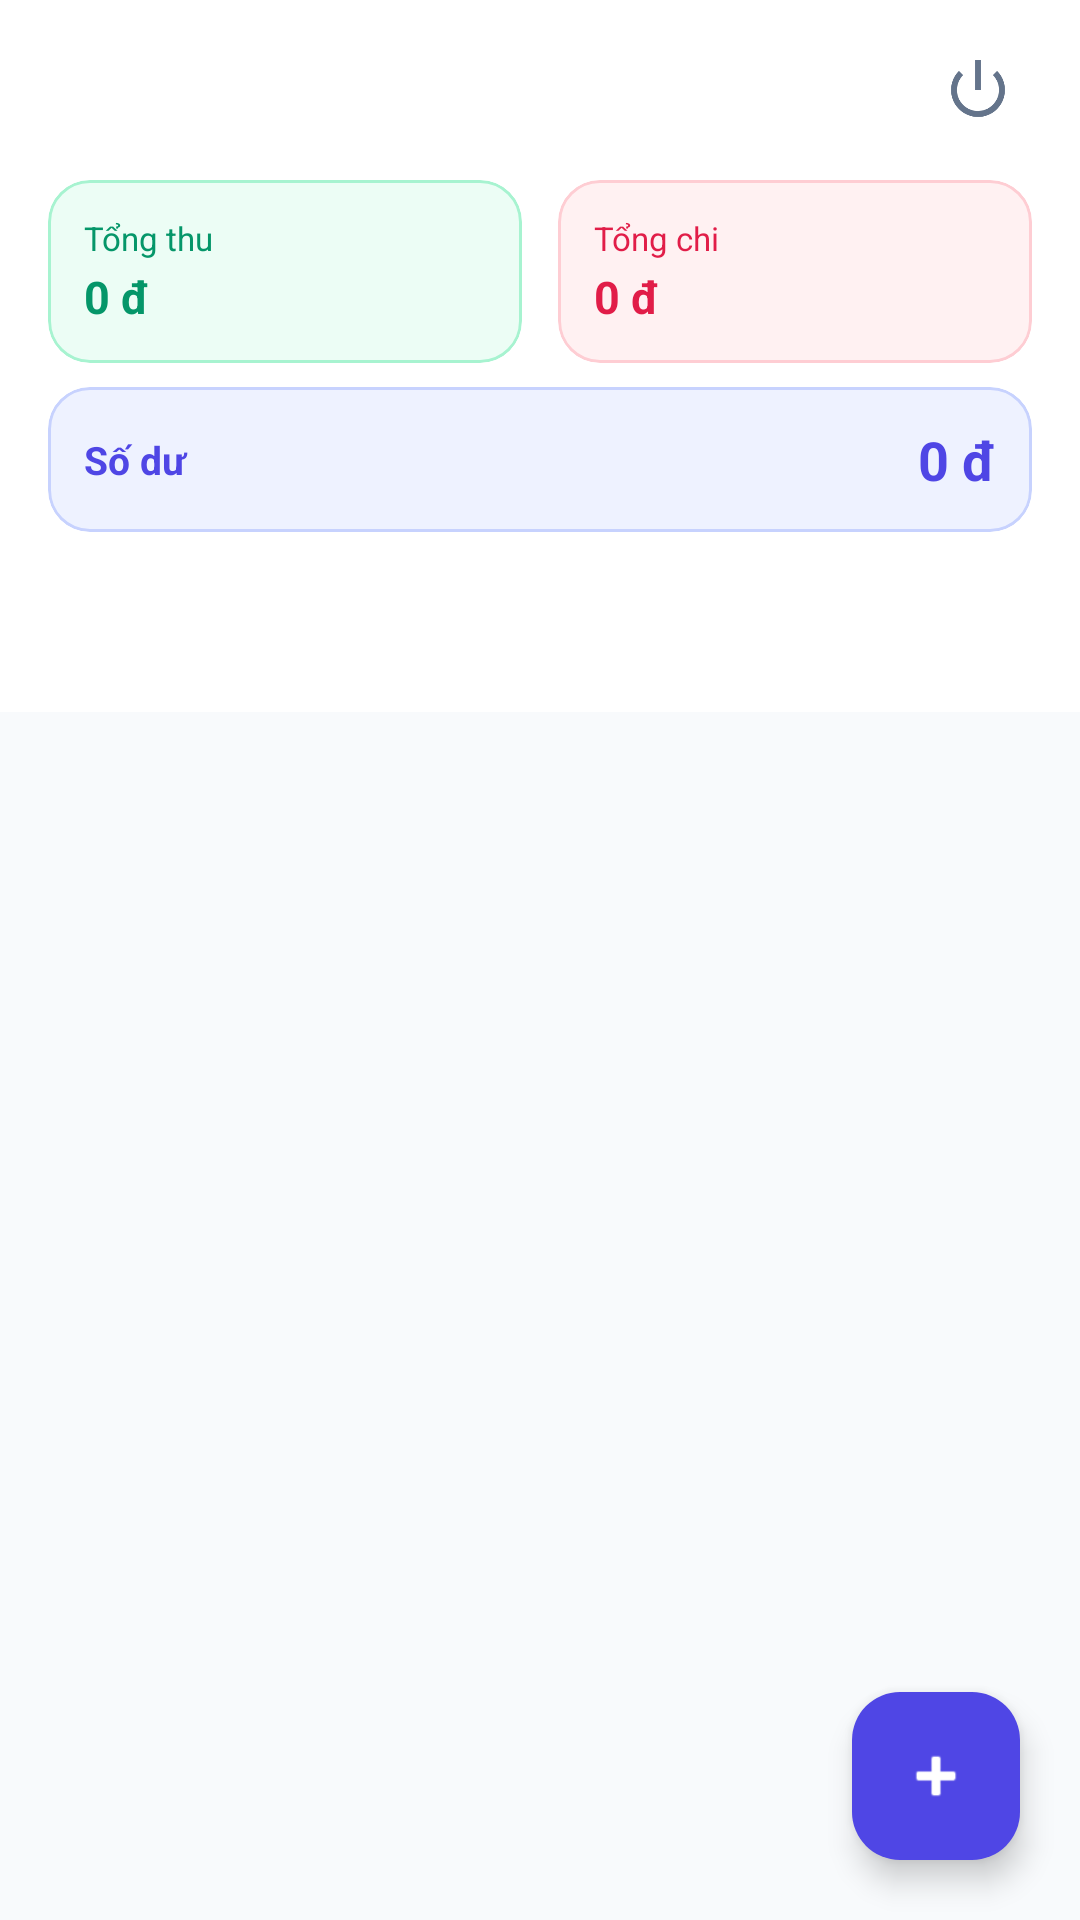

Named icons in this screenshot (1080px x 1920px) and their centers, [x,y]:
Thêm: [936,1776]
Đăng xuất: [978,88]
